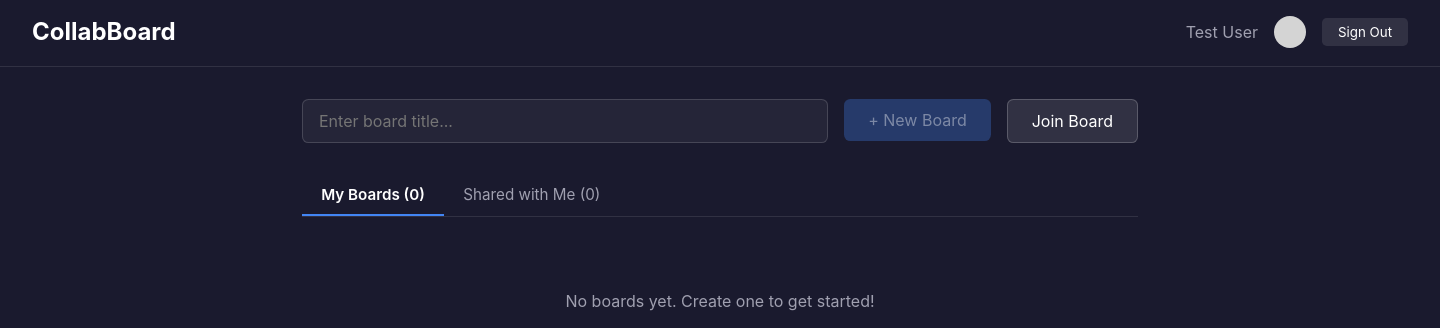
Test: DashboardPage › shows empty state message for Shared tab
This screenshot has width=1440, height=328.
Click the button "Shared with Me (0)". click: (532, 196)
box: [444, 175, 620, 216]
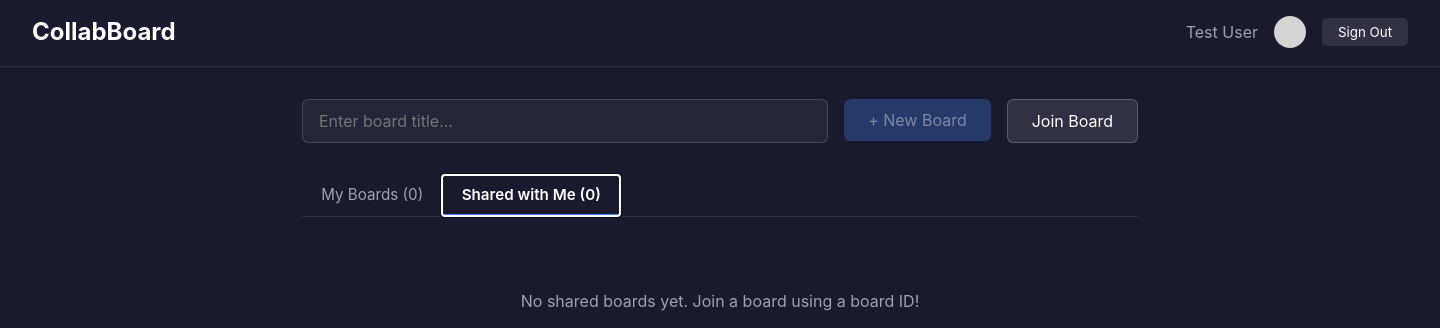
Expected: the text "No shared boards yet. Join a board using a board ID!" is shown, [521, 291, 919, 311]
